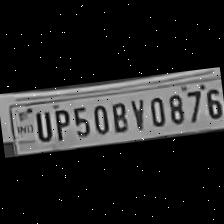0: (144, 92, 168, 129), (87, 100, 110, 136)
5: (67, 101, 90, 139)
6: (200, 83, 224, 121)
7: (182, 85, 204, 124)
8: (162, 88, 186, 127)
B: (106, 96, 130, 134)
P: (48, 104, 72, 142)
U: (29, 106, 53, 143)
V: (126, 94, 147, 132)
